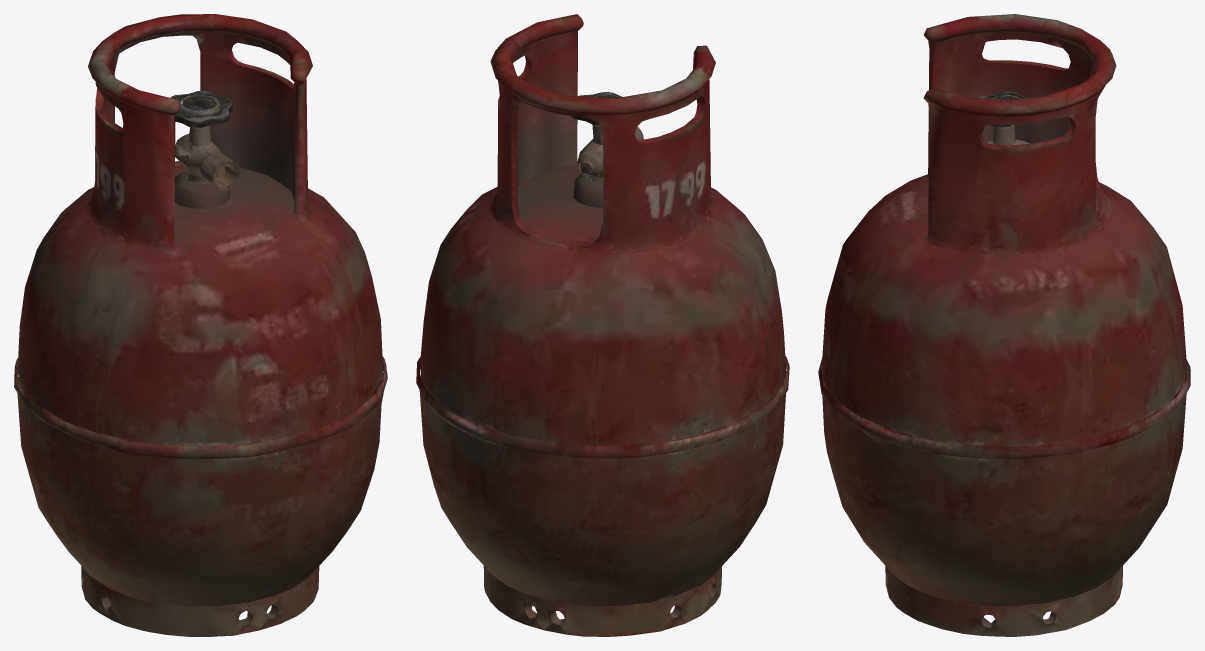
The model's file is small_lpg_tank.glb.
3 renders of one model, left to right at view 1: azimuth 30°, elevation 25°; view 2: azimuth 150°, elevation 25°; view 3: azimuth 270°, elevation 25°, orthographic.
Visible parts, largest first — view 1: small_lpg_tank; view 2: small_lpg_tank; view 3: small_lpg_tank.
Boxes of the visible parts, box(x1,y1,x2,y2) form: small_lpg_tank: box(14, 14, 387, 636); small_lpg_tank: box(416, 14, 789, 636); small_lpg_tank: box(818, 14, 1190, 636).
Size of the model in its own units: 0.4101 by 0.6423 by 0.4097.
1 material, 1 textured.
